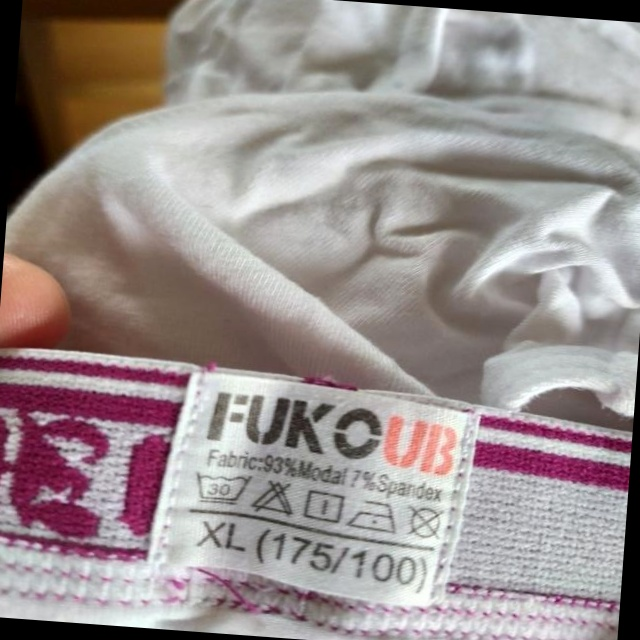30C: (194, 466, 253, 505)
DN_bleach: (251, 478, 299, 516)
DN_dry_clean: (404, 503, 449, 542)
iron_low: (349, 497, 400, 535)
